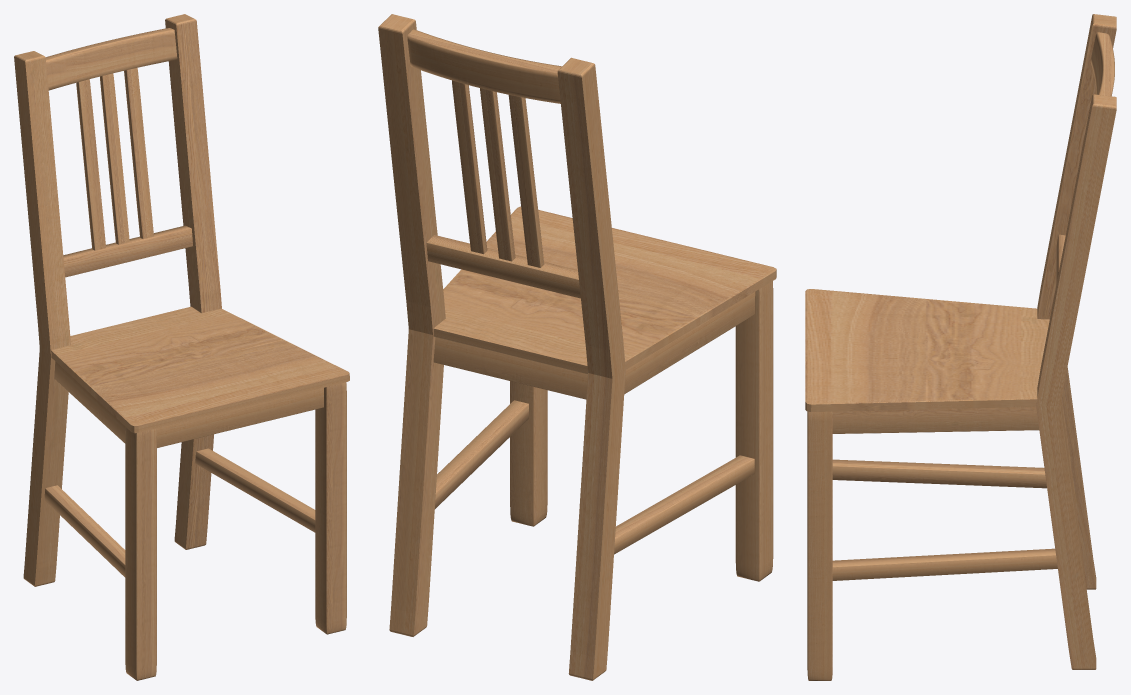
Rendered from chair.obj.
The picture shows the model from 3 angles, left to right: view 1: azimuth 30°, elevation 25°; view 2: azimuth 150°, elevation 25°; view 3: azimuth 270°, elevation 25°; orthographic projection. The views are drawn at different scales.
Visible parts, largest first — view 1: Seat, BackLegLeft, BackLegRight, FrontLeftLeg, FrontRightLeg, BackTop, UnderSeatFront, BackBottom, BetweenLegRight, BackMiddleCenter, BackMiddleRight, BackMiddleLeft (+2 smaller); view 2: Seat, BackLegLeft, BackLegRight, FrontLeftLeg, BackTop, FrontRightLeg, UnderSeatBack, BackBottom, BetweenLegLeft, UnderSeatLeft, BetweenLegRight, BackMiddleLeft (+2 smaller); view 3: Seat, BackLegRight, FrontRightLeg, BackLegLeft, UnderSeatRight, BetweenLegRight, BetweenLegLeft, BackTop.
Boxes of the visible parts, x1,y1,x2,y2 form: Seat: [51, 306, 349, 433]; BackLegLeft: [14, 51, 70, 586]; BackLegRight: [165, 14, 221, 549]; FrontLeftLeg: [125, 427, 156, 680]; FrontRightLeg: [315, 382, 346, 634]; BackTop: [45, 28, 177, 90]; UnderSeatFront: [156, 388, 323, 447]; BackBottom: [63, 225, 192, 277]; BetweenLegRight: [195, 448, 315, 532]; BackMiddleCenter: [100, 73, 129, 244]; BackMiddleRight: [124, 68, 153, 238]; BackMiddleLeft: [76, 79, 105, 250]; Seat: [433, 206, 776, 373]; BackLegLeft: [557, 57, 625, 680]; BackLegRight: [378, 14, 445, 636]; FrontLeftLeg: [735, 281, 773, 581]; BackTop: [407, 29, 561, 103]; FrontRightLeg: [510, 381, 547, 526]; UnderSeatBack: [433, 337, 587, 399]; BackBottom: [426, 235, 580, 298]; BetweenLegLeft: [614, 455, 754, 554]; UnderSeatLeft: [624, 292, 755, 394]; BetweenLegRight: [434, 400, 528, 509]; BackMiddleLeft: [508, 95, 544, 267]; Seat: [805, 289, 1049, 411]; BackLegRight: [1036, 94, 1116, 669]; FrontRightLeg: [807, 411, 832, 680]; BackLegLeft: [1037, 14, 1116, 589]; UnderSeatRight: [832, 407, 1039, 433]; BetweenLegRight: [832, 548, 1057, 580]; BetweenLegLeft: [832, 459, 1046, 488]; BackTop: [1090, 32, 1114, 96].
Bounding box in the file's own units: 2.78 × 6.35 × 3.17.
1 material, 1 textured.
